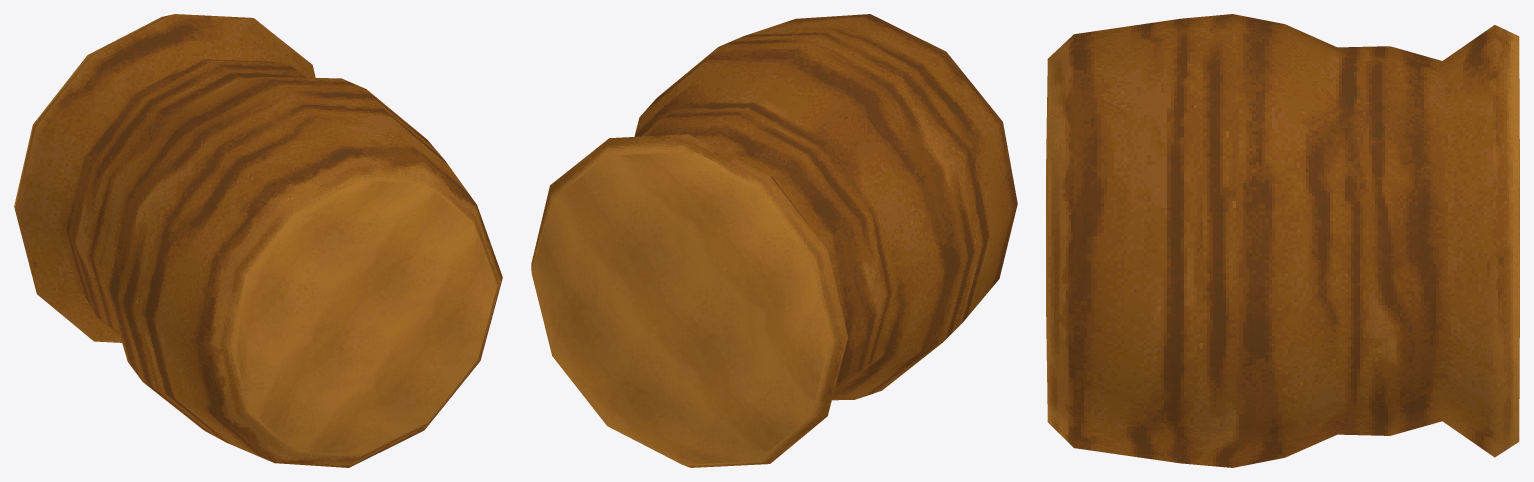
File: SM_AP_Pillar_18m_1.glb
3 views of the same model, side by side, from view 1: azimuth 30°, elevation 25°; view 2: azimuth 150°, elevation 25°; view 3: azimuth 270°, elevation 25° (orthographic). The views are drawn at different scales.
Visible parts, largest first — view 1: SM_AP_Pillar_18m_1; view 2: SM_AP_Pillar_18m_1; view 3: SM_AP_Pillar_18m_1.
Boxes of the visible parts, x1=… form: SM_AP_Pillar_18m_1: x1=14, y1=14, x2=502, y2=467; SM_AP_Pillar_18m_1: x1=531, y1=14, x2=1017, y2=467; SM_AP_Pillar_18m_1: x1=1046, y1=14, x2=1519, y2=467.
Bounding box in the file's own units: 17.81 × 17.93 × 18.68.
Materials: 1 (1 with a texture image).
